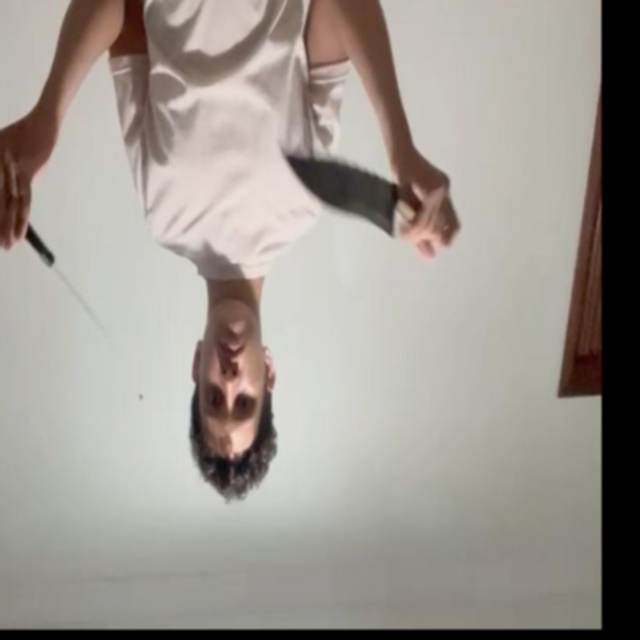Sharp-Object: (285, 157, 394, 242)
